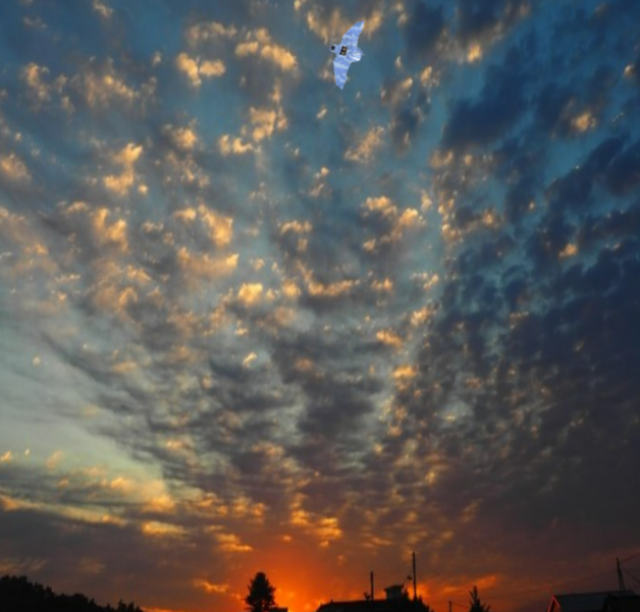military drone: (328, 20, 365, 89)
